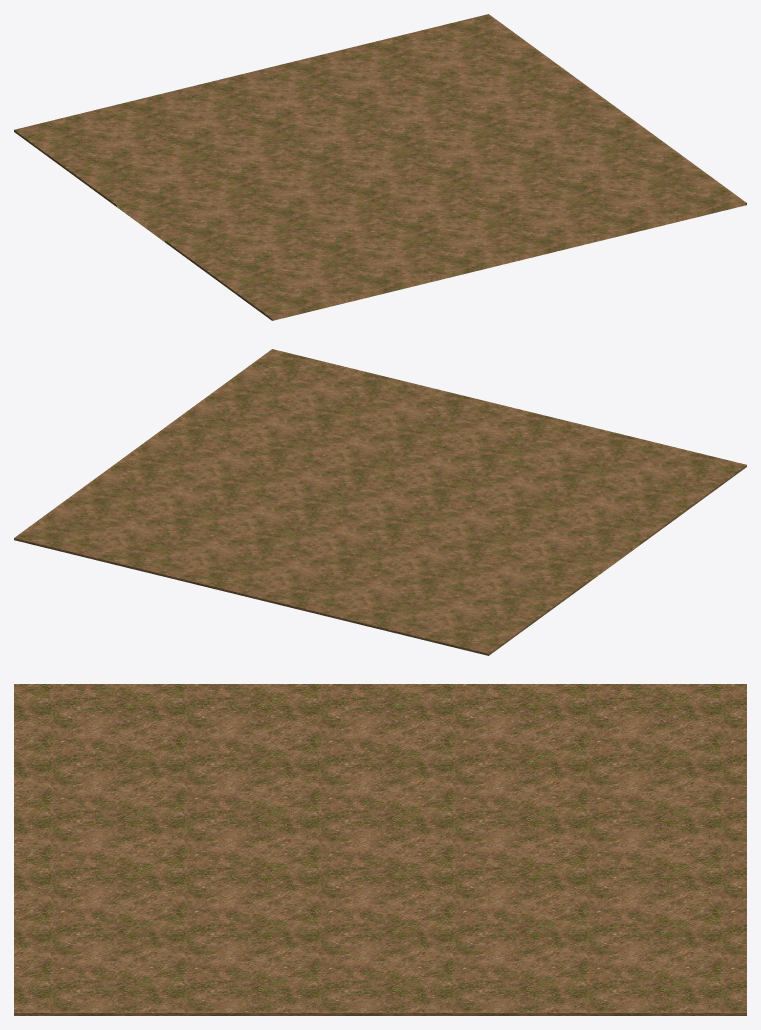
Rendered from piso_tierra.obj.
The picture shows the model from 3 angles, top to bottom: view 1: azimuth 30°, elevation 25°; view 2: azimuth 150°, elevation 25°; view 3: azimuth 270°, elevation 25°; orthographic projection. The views are drawn at different scales.
Visible parts, largest first — view 1: Cube.285; view 2: Cube.285; view 3: Cube.285.
Part boxes in pixels (bbox=[...]): Cube.285: bbox=[14, 14, 746, 320]; Cube.285: bbox=[14, 349, 746, 655]; Cube.285: bbox=[14, 684, 746, 1015].
Bounding box in the file's own units: 85.01 × 0.36 × 80.11.
